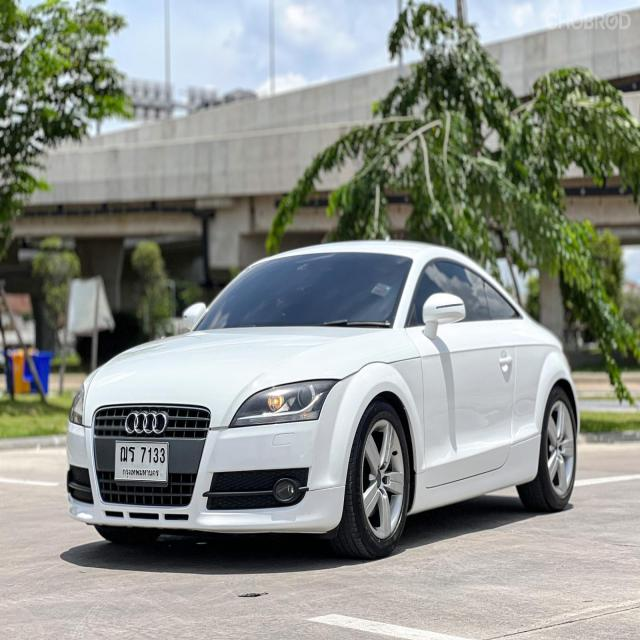license_plate: (112, 438, 171, 484)
